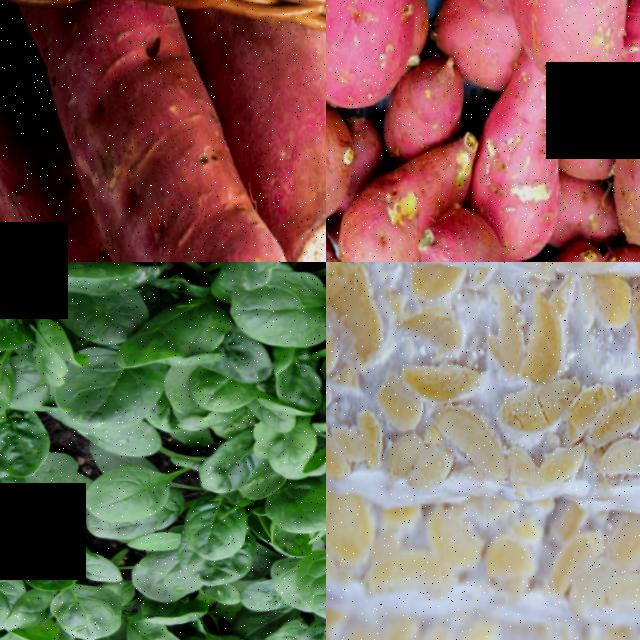spinach: (225, 280, 326, 349), (58, 366, 162, 431), (81, 460, 171, 526), (51, 288, 148, 346), (180, 493, 251, 563), (261, 480, 326, 535), (0, 413, 51, 476), (293, 545, 326, 623), (0, 542, 23, 633), (0, 469, 30, 531)
sweet potato: (0, 1, 326, 262), (196, 14, 326, 262), (479, 63, 559, 221), (492, 0, 635, 87), (326, 0, 418, 111), (336, 181, 415, 262), (415, 212, 517, 262), (609, 99, 640, 247)
tempeh: (326, 262, 640, 640)
